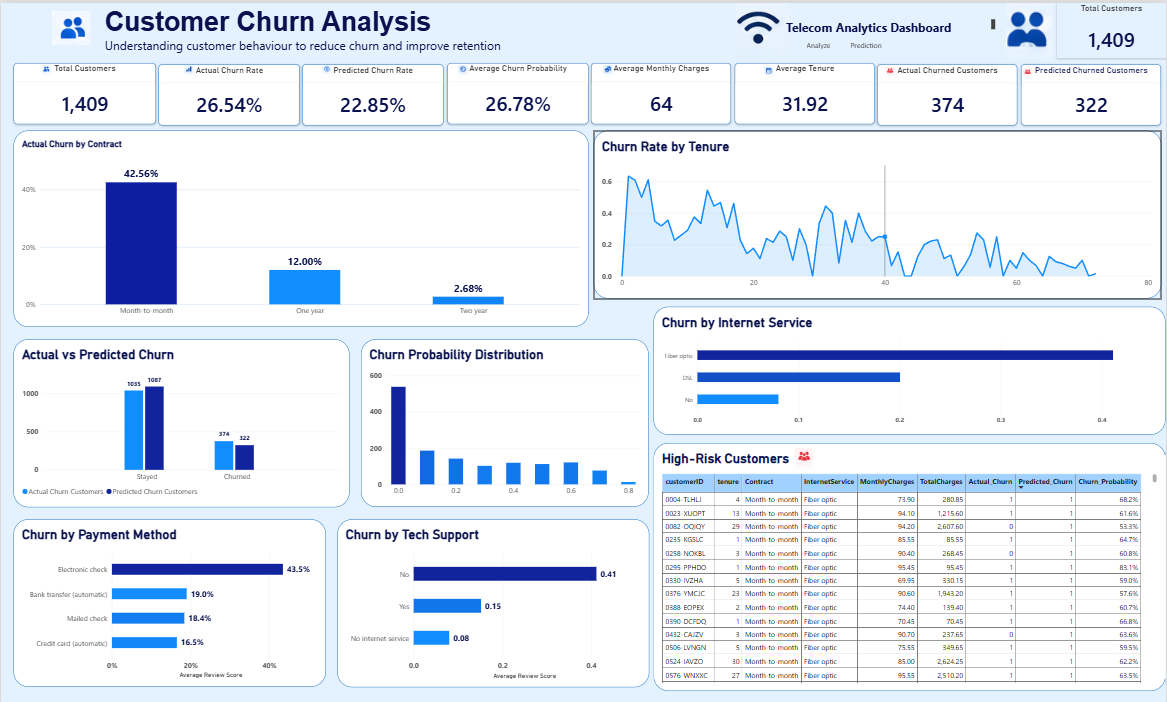

The page's visual inventory and layout, read from the dashboard file:
{"tool":"powerbi","page":{"name":"Analyze","canvas":[2330,1400],"ordinal":0},"visuals":[{"type":"cardVisual","title":"Total Customers","fields":{"Data":["ChurnStatus.Total Customers Exact"]},"box":[24,120.4,285,122.5],"z":0},{"type":"cardVisual","title":"Average Churn Probability","fields":{"Data":["Avg(customer_churn_predictions.Churn_Probability)"]},"box":[892.2,120,282.5,122.5],"z":1000},{"type":"cardVisual","title":"Actual Churn Rate","fields":{"Data":["Avg(customer_churn_predictions.Actual_Churn)"]},"box":[315.1,122.1,282.5,122.5],"z":2000},{"type":"cardVisual","title":"Predicted Churn Rate","fields":{"Data":["Avg(customer_churn_predictions.Predicted_Churn)"]},"box":[603.6,121.8,282.5,122.5],"z":3000},{"type":"clusteredColumnChart","title":"Actual Churn by Contract","fields":{"Category":["customer_churn_predictions.Contract"],"Y":["Avg(customer_churn_predictions.Actual_Churn)"]},"box":[25,255,1150,392.5],"z":4000},{"type":"columnChart","title":"Churn Probability Distribution","fields":{"Category":["customer_churn_predictions.Churn_Probability (bins)"],"Y":["CountNonNull(customer_churn_predictions.customerID)"]},"box":[720,672.5,575,335],"z":5000},{"type":"lineChart","title":"Churn Rate by Tenure","fields":{"Category":["customer_churn_predictions.tenure"],"Y":["Avg(customer_churn_predictions.Actual_Churn)"]},"box":[1184,256,1136,336],"z":6000},{"type":"clusteredBarChart","title":"Churn by Payment Method","fields":{"Category":["customer_churn_predictions.PaymentMethod"],"Y":["Avg(customer_churn_predictions.Actual_Churn)"]},"box":[25,1032.5,625,335],"z":7000},{"type":"clusteredColumnChart","title":"Actual vs Predicted Churn","fields":{"Category":["ChurnStatus.Status"],"Y":["ChurnStatus.Actual Churn Customers","ChurnStatus.Predicted Churn Customers"]},"box":[24,672,672,336],"z":8000},{"type":"clusteredBarChart","title":"Churn by Internet Service","fields":{"Category":["customer_churn_predictions.InternetService"],"Y":["Avg(customer_churn_predictions.Actual_Churn)"]},"box":[1306,608,1024,256],"z":9000},{"type":"textbox","box":[208,8,864,120],"z":10000},{"type":"cardVisual","title":"Average Monthly Charges","fields":{"Data":["Avg(customer_churn_predictions.MonthlyCharges)"]},"box":[1180.8,120.7,280,122.5],"z":11000},{"type":"cardVisual","title":"Average Tenure","fields":{"Data":["Avg(customer_churn_predictions.tenure)"]},"box":[1466.9,121.1,280,122.5],"z":12000},{"type":"cardVisual","title":"Actual Churned Customers","fields":{"Data":["Sum(customer_churn_predictions.Actual_Churn)"]},"box":[1752.9,121.4,280,122.5],"z":13000},{"type":"cardVisual","title":"Predicted Churned Customers","fields":{"Data":["Sum(customer_churn_predictions.Predicted_Churn)"]},"box":[2039,122.5,280,122.5],"z":14000},{"type":"clusteredBarChart","title":"Churn by Tech Support","fields":{"Category":["customer_churn_predictions.TechSupport"],"Y":["Avg(customer_churn_predictions.Actual_Churn)"]},"box":[672,1032,624,336],"z":15000},{"type":"tableEx","title":"High-Risk Customers","fields":{"Values":["customer_churn_predictions.customerID","customer_churn_predictions.tenure","customer_churn_predictions.Contract","customer_churn_predictions.InternetService","customer_churn_predictions.MonthlyCharges","customer_churn_predictions.TotalCharges","customer_churn_predictions.Actual_Churn","customer_churn_predictions.Predicted_Churn","customer_churn_predictions.Churn_Probability"]},"box":[1306,880,1024,496],"z":16000},{"type":"image","box":[79.5,121.9,23,29],"z":17000},{"type":"image","box":[365.2,122.9,23,29],"z":18000},{"type":"image","box":[639,122.9,23,29],"z":19000},{"type":"image","box":[912.9,123.3,23,29],"z":20000},{"type":"image","box":[1202.4,123.3,23,29],"z":21000},{"type":"image","box":[1524.3,123.8,23,29],"z":22000},{"type":"image","box":[2042.9,127.1,23,29],"z":23000},{"type":"image","box":[1768.1,123.8,23,29],"z":24000},{"type":"image","box":[1556.7,891.1,101.2,49.4],"z":25000},{"type":"image","box":[103,6,76,90],"z":26000},{"type":"image","box":[1416,0,218,110],"z":27000},{"type":"image","box":[1946.7,0,218,110],"z":28000},{"type":"cardVisual","title":"Total Customers","fields":{"Data":["ChurnStatus.Total Customers Exact"]},"box":[2111.2,0,217.5,110],"z":29000},{"type":"textbox","box":[1570,33.1,418.3,35],"z":30000},{"type":"actionButton","title":"Analyze","box":[1584,68,100,28],"z":31000},{"type":"actionButton","title":"Analyze","box":[1679,68,100,28],"z":32000}]}

Visuals, with their boxes in screenshot pixels (x1, y1, x2, y2), scaled from the page's 2330x1400 canvas onto the 1167x702 screenshot:
"Total Customers" cardVisual: (12, 60, 155, 122)
"Average Churn Probability" cardVisual: (447, 60, 588, 122)
"Actual Churn Rate" cardVisual: (158, 61, 299, 123)
"Predicted Churn Rate" cardVisual: (302, 61, 444, 122)
"Actual Churn by Contract" clusteredColumnChart: (13, 128, 589, 325)
"Churn Probability Distribution" columnChart: (361, 337, 649, 505)
"Churn Rate by Tenure" lineChart: (593, 128, 1162, 297)
"Churn by Payment Method" clusteredBarChart: (13, 518, 326, 686)
"Actual vs Predicted Churn" clusteredColumnChart: (12, 337, 349, 505)
"Churn by Internet Service" clusteredBarChart: (654, 305, 1166, 433)
textbox: (104, 4, 537, 64)
"Average Monthly Charges" cardVisual: (591, 61, 732, 122)
"Average Tenure" cardVisual: (735, 61, 875, 122)
"Actual Churned Customers" cardVisual: (878, 61, 1018, 122)
"Predicted Churned Customers" cardVisual: (1021, 61, 1161, 123)
"Churn by Tech Support" clusteredBarChart: (337, 517, 649, 686)
"High-Risk Customers" tableEx: (654, 441, 1166, 690)
image: (40, 61, 51, 76)
image: (183, 62, 194, 76)
image: (320, 62, 332, 76)
image: (457, 62, 469, 76)
image: (602, 62, 614, 76)
image: (763, 62, 775, 77)
image: (1023, 64, 1035, 78)
image: (886, 62, 897, 77)
image: (780, 447, 830, 472)
image: (52, 3, 90, 48)
image: (709, 0, 818, 55)
image: (975, 0, 1084, 55)
"Total Customers" cardVisual: (1057, 0, 1166, 55)
textbox: (786, 17, 996, 34)
"Analyze" actionButton: (793, 34, 843, 48)
"Analyze" actionButton: (841, 34, 891, 48)
